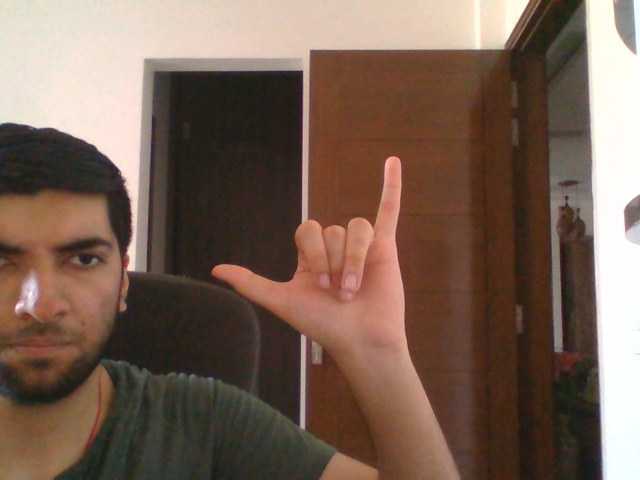LetterY: (209, 153, 411, 354)
